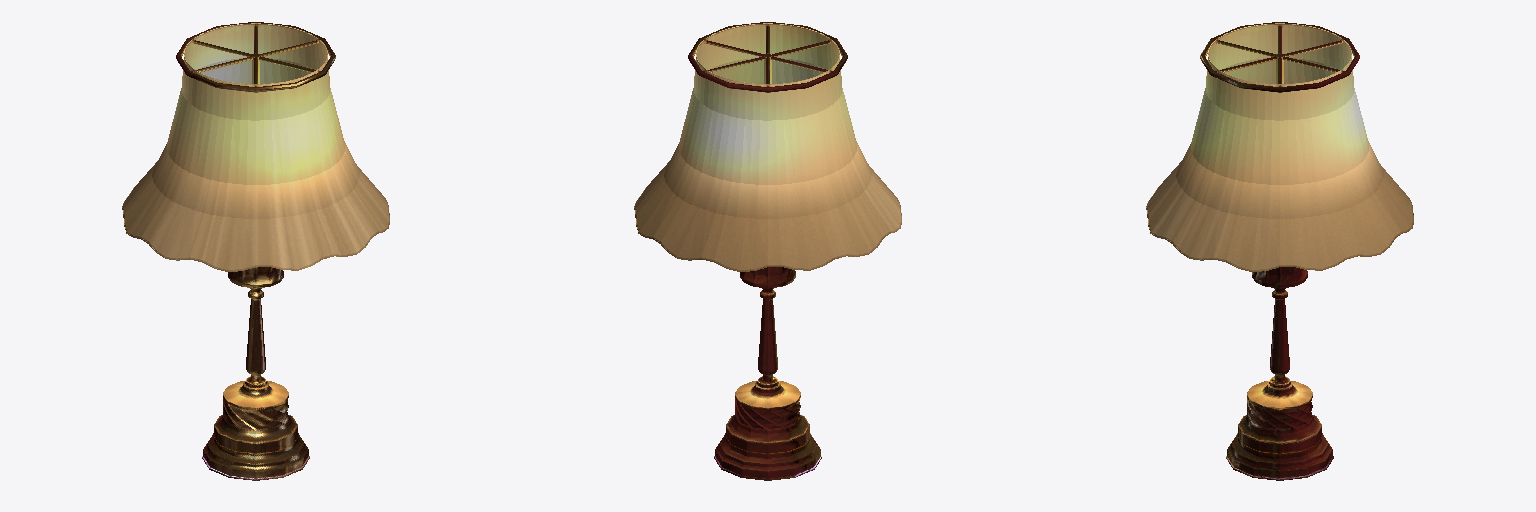
The picture shows the model from 3 angles: view 1: azimuth 30°, elevation 25°; view 2: azimuth 150°, elevation 25°; view 3: azimuth 270°, elevation 25°; orthographic projection.
Visible parts, largest first — view 1: nighttablelamp2Baked BedroomBakedTriExport; view 2: nighttablelamp2Baked BedroomBakedTriExport; view 3: nighttablelamp2Baked BedroomBakedTriExport.
Part boxes in pixels (x1,y1,x2,y2): nighttablelamp2Baked BedroomBakedTriExport: (122,22,389,480); nighttablelamp2Baked BedroomBakedTriExport: (634,22,901,480); nighttablelamp2Baked BedroomBakedTriExport: (1146,22,1413,480).
Size of the model in its own units: 0.3761 by 0.6259 by 0.3761.
Materials: 1 (1 with a texture image).